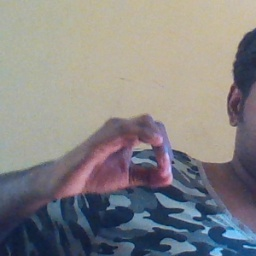O: (59, 110, 181, 204)
